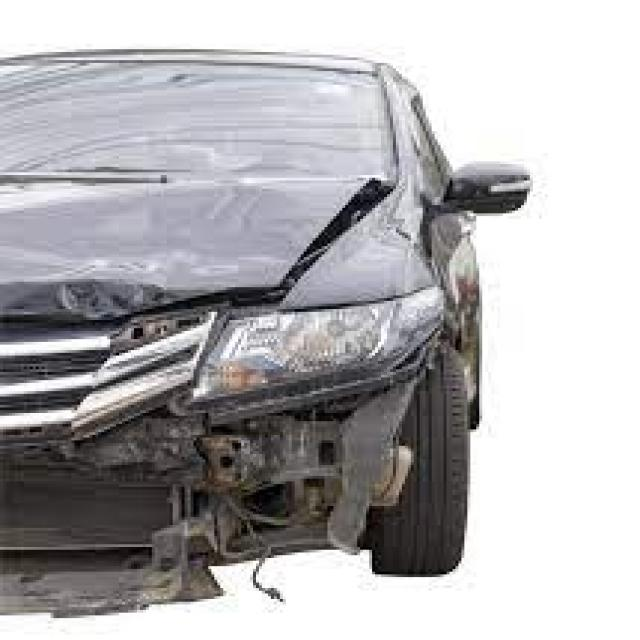severe: (14, 192, 509, 640)
